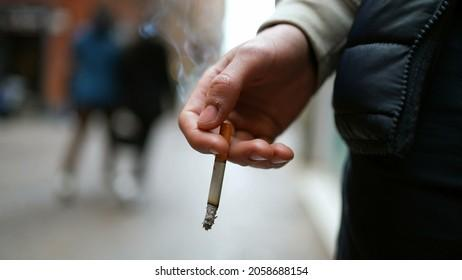cigarette: (203, 154, 226, 229)
